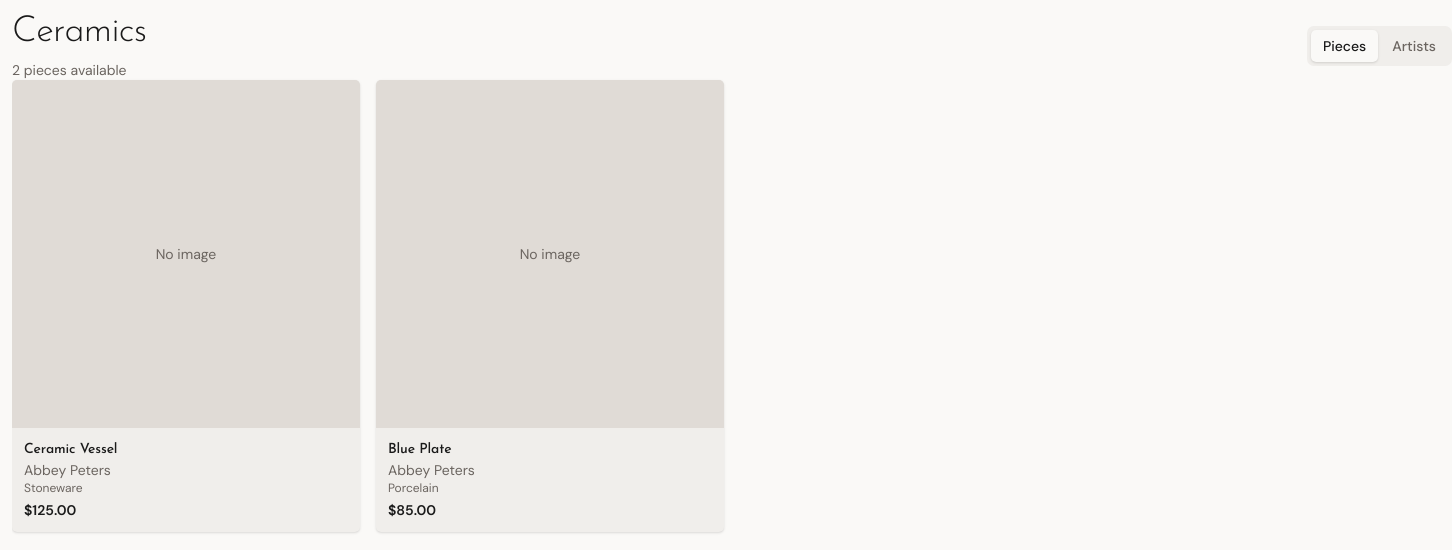
Scenario: CategoryBrowseView › should switch to Artists view and show artist count
Click the tab "Artists" at (1414, 46), box [1380, 30, 1448, 62]
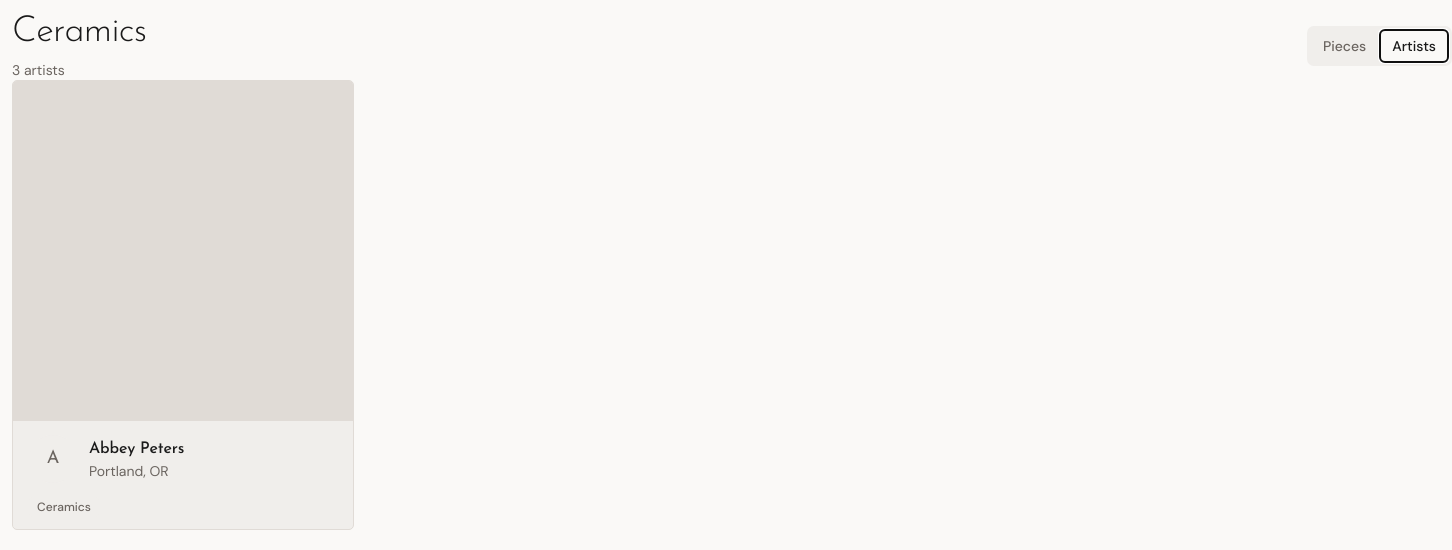
Check: the panel with test id "category-content" is gone
Check: the panel with test id "category-artists-content" is shown, box [12, 80, 354, 530]
Check: the text "3 artists" is shown, box [12, 61, 65, 79]
